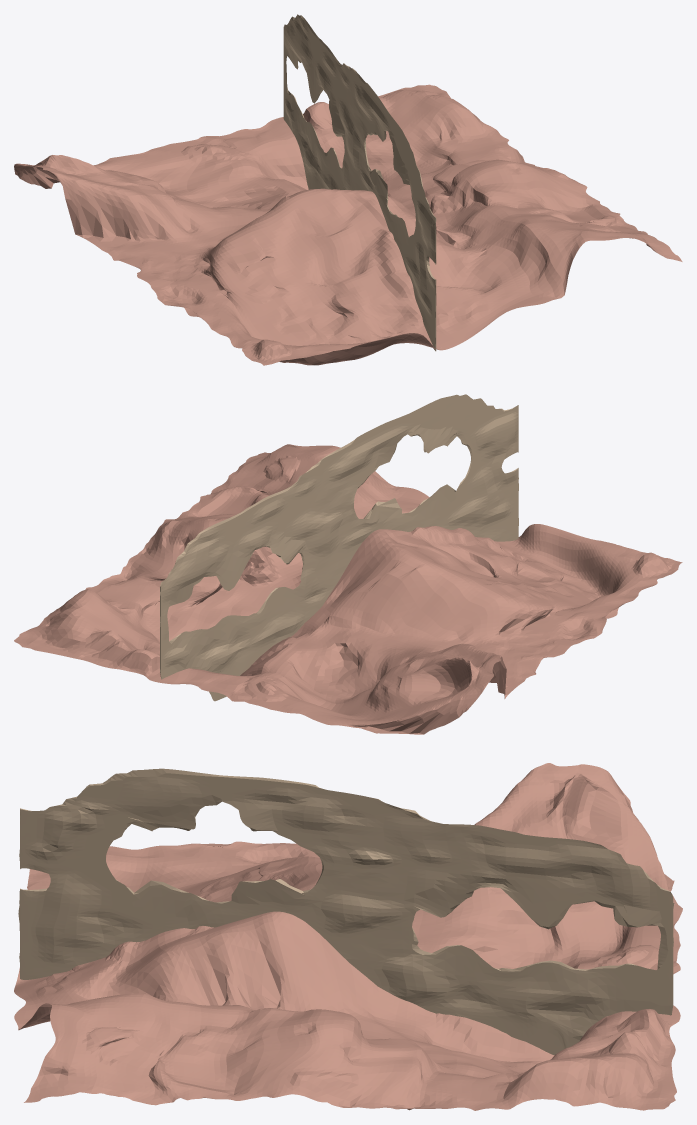
Rendered from desert.dae.
3 views of the same model, one above another, from view 1: azimuth 30°, elevation 25°; view 2: azimuth 150°, elevation 25°; view 3: azimuth 270°, elevation 25° (orthographic). The views are drawn at different scales.
Parts seen in each view (by area): view 1: Plane, Cube; view 2: Plane, Cube; view 3: Plane, Cube.
Part boxes in pixels (<box>): Plane: <box>14,84,682,365</box>; Cube: <box>283,14,436,351</box>; Plane: <box>14,444,682,734</box>; Cube: <box>160,394,518,701</box>; Plane: <box>14,763,682,1110</box>; Cube: <box>18,768,674,1055</box>.
Bounding box in the file's own units: 16.72 × 16.82 × 7.15.
